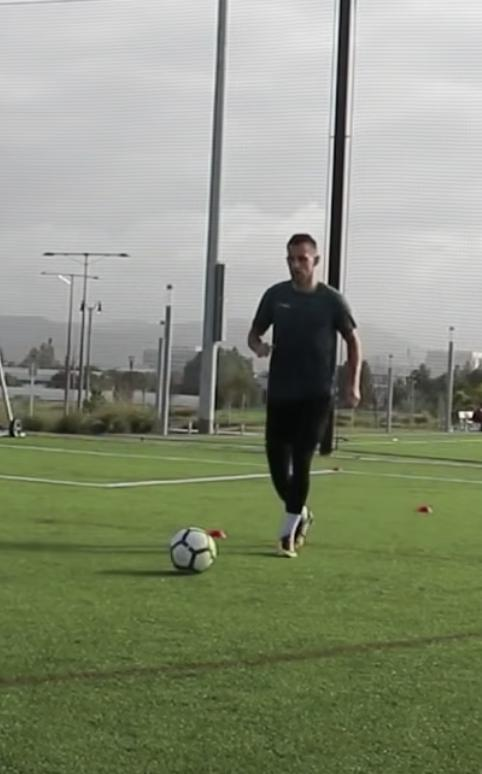ball: (170, 527, 216, 572)
foot: (289, 506, 311, 556)
person: (246, 232, 362, 557)
